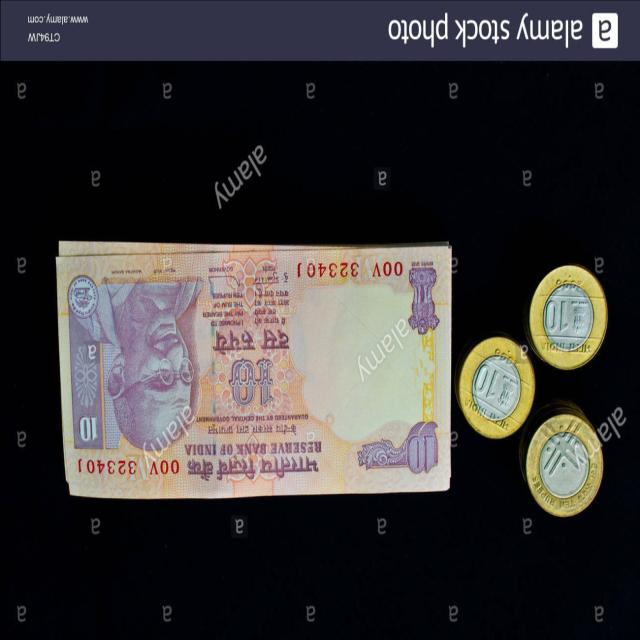10IndianRupees: (61, 250, 452, 492)
